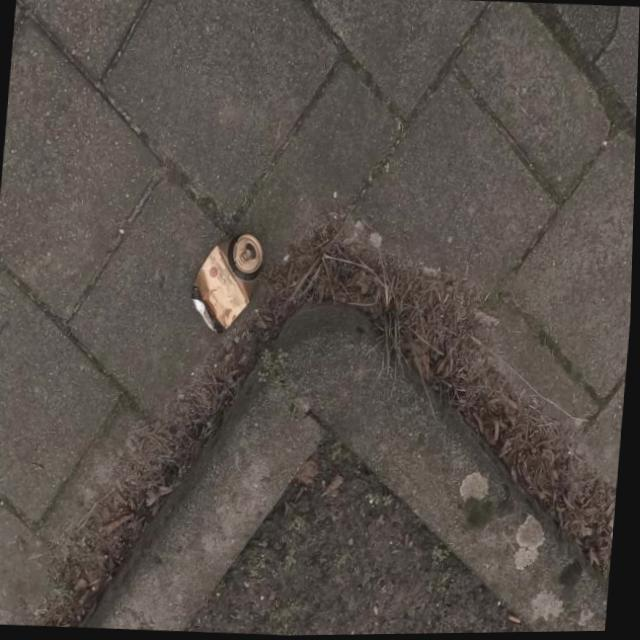Can-Metal: (187, 225, 272, 340)
